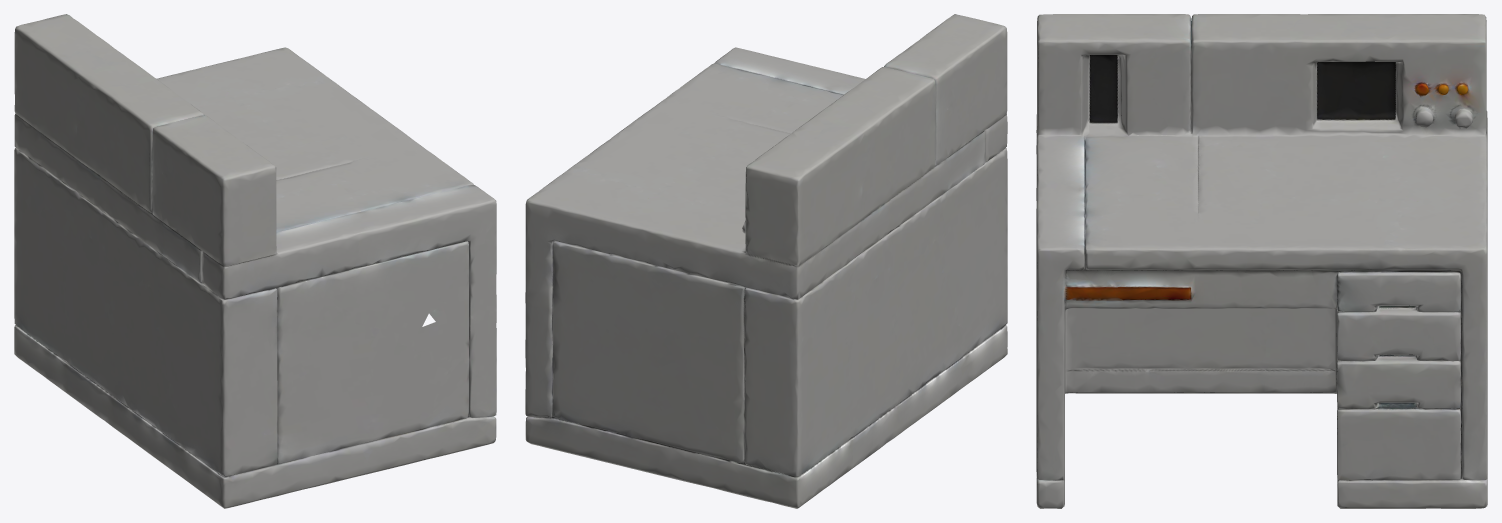
File: tripo-output.glb
3 views of the same model, side by side, from view 1: azimuth 30°, elevation 25°; view 2: azimuth 150°, elevation 25°; view 3: azimuth 270°, elevation 25° (orthographic). The views are drawn at different scales.
Parts seen in each view (by area): view 1: tripo_node_fdea6861-67cd-44c2-872e-58b7e8c226b0; view 2: tripo_node_fdea6861-67cd-44c2-872e-58b7e8c226b0; view 3: tripo_node_fdea6861-67cd-44c2-872e-58b7e8c226b0.
Part boxes in pixels (x1,y1,x2,y2): tripo_node_fdea6861-67cd-44c2-872e-58b7e8c226b0: (14, 14, 496, 508); tripo_node_fdea6861-67cd-44c2-872e-58b7e8c226b0: (525, 14, 1007, 508); tripo_node_fdea6861-67cd-44c2-872e-58b7e8c226b0: (1036, 14, 1487, 508).
Bounding box in the file's own units: 0.7496 × 0.8656 × 0.9978.
1 material, 1 textured.
